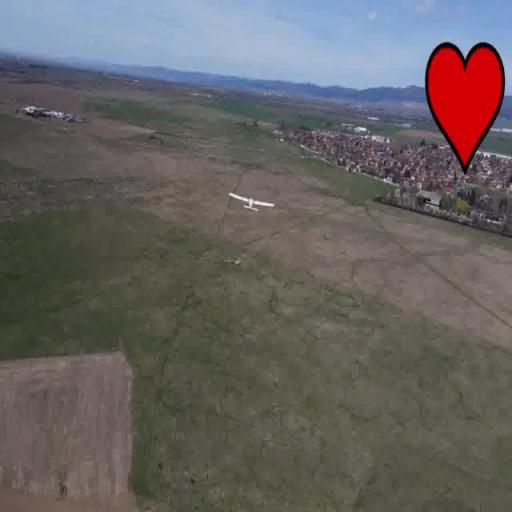uav: (226, 188, 280, 224)
